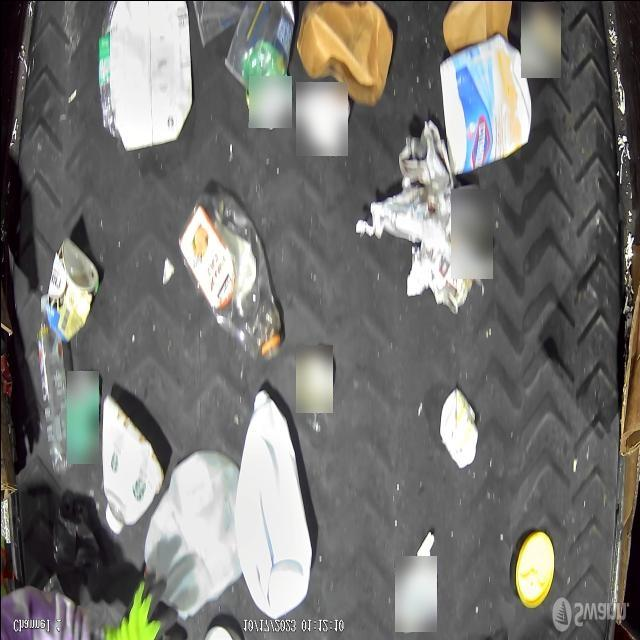milk_jug: (236, 391, 314, 618), (142, 449, 240, 622)
plastic_bottle: (178, 190, 284, 360), (37, 320, 67, 470)
